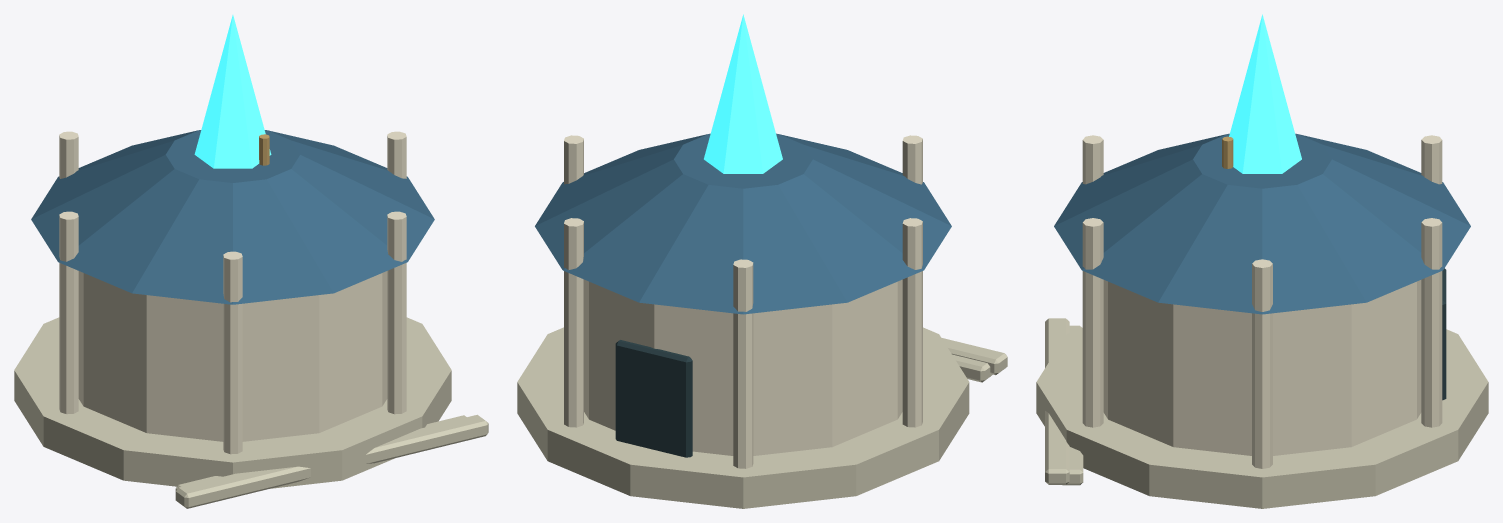
Rendered from level_16.glb.
3 views of the same model, side by side, from view 1: azimuth 30°, elevation 25°; view 2: azimuth 150°, elevation 25°; view 3: azimuth 270°, elevation 25° (orthographic). The views are drawn at different scales.
Visible parts, largest first — view 1: mage_guild — level 16; view 2: mage_guild — level 16; view 3: mage_guild — level 16.
Boxes of the visible parts, x1=… form: mage_guild — level 16: x1=14, y1=15, x2=488, y2=508; mage_guild — level 16: x1=517, y1=14, x2=1007, y2=508; mage_guild — level 16: x1=1036, y1=14, x2=1488, y2=508.
Size of the model in its own units: 5.2 by 5.07 by 5.2.
